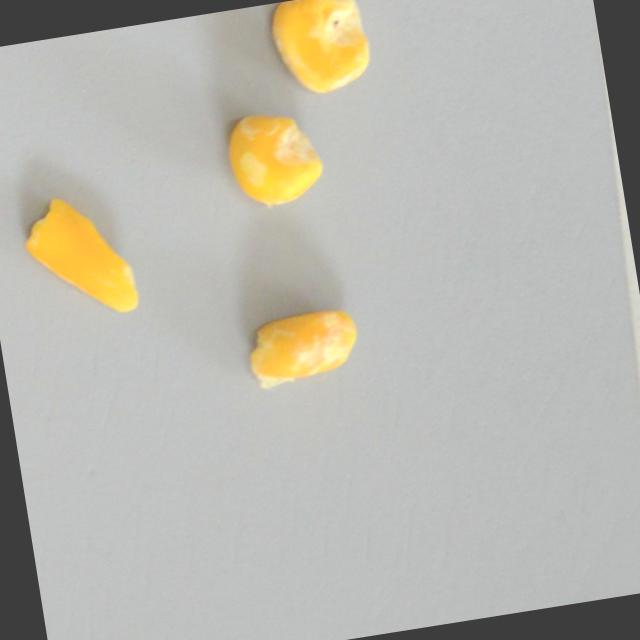estandar: (14, 213, 162, 310)
pelicula: (236, 291, 365, 406), (221, 104, 329, 216)
punto_negro: (265, 0, 377, 101)
